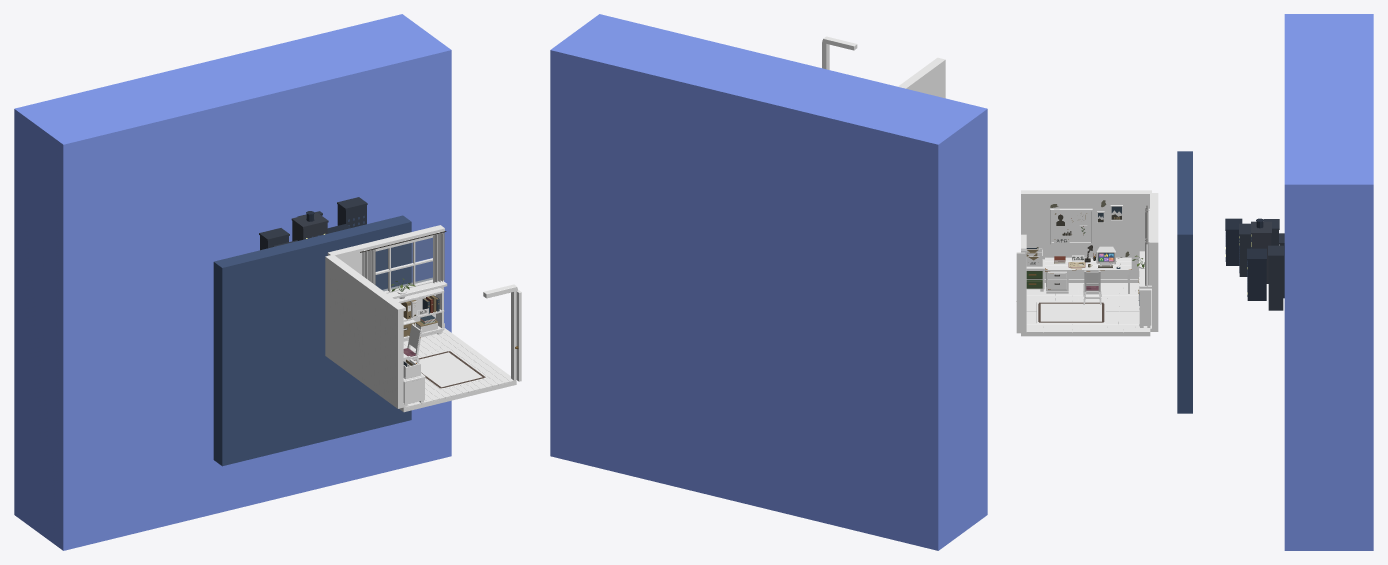
The model's file is studio.glb.
The picture shows the model from 3 angles, left to right: view 1: azimuth 30°, elevation 25°; view 2: azimuth 150°, elevation 25°; view 3: azimuth 270°, elevation 25°; orthographic projection. The views are drawn at different scales.
Parts seen in each view (by area): view 1: 立方体.001, 立方体, Wall | LEFT inner face at X=0, Rug | main fabric; view 2: 立方体.001, Wall | LEFT inner face at X=0; view 3: 立方体.001, Wall | LEFT inner face at X=0, 立方体, Rug | main fabric, Exterior | building 4, Exterior | building 3, Door | open edge, Corkboard exposed cork, Floor | structural subfloor, Trim | left ceiling beam, Exterior | building 0.
Boxes of the visible parts, x1,y1,x2,y2 form: 立方体.001: (14, 14, 451, 550); 立方体: (213, 215, 411, 466); Wall | LEFT inner face at X=0: (325, 255, 403, 408); Rug | main fabric: (414, 350, 487, 389); 立方体.001: (550, 14, 987, 550); Wall | LEFT inner face at X=0: (900, 58, 945, 98); 立方体.001: (1284, 14, 1373, 550); Wall | LEFT inner face at X=0: (1021, 190, 1151, 278); 立方体: (1177, 151, 1192, 413); Rug | main fabric: (1036, 302, 1105, 323); Exterior | building 4: (1268, 257, 1283, 310); Exterior | building 3: (1247, 260, 1266, 300); Door | open edge: (1016, 252, 1025, 333); Corkboard exposed cork: (1051, 211, 1090, 242); Floor | structural subfloor: (1021, 283, 1150, 336); Trim | left ceiling beam: (1021, 193, 1150, 196); Exterior | building 0: (1226, 231, 1239, 265).
Bounding box in the file's own units: 11.87 × 11.87 × 10.48.
